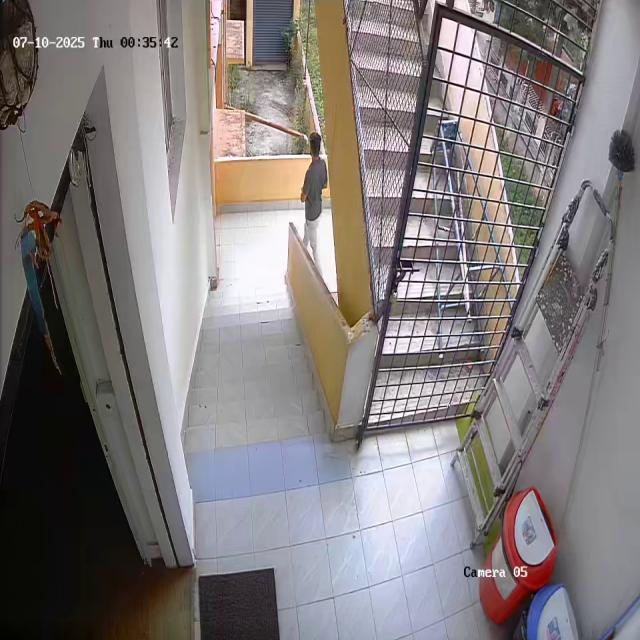person: (298, 130, 330, 264)
